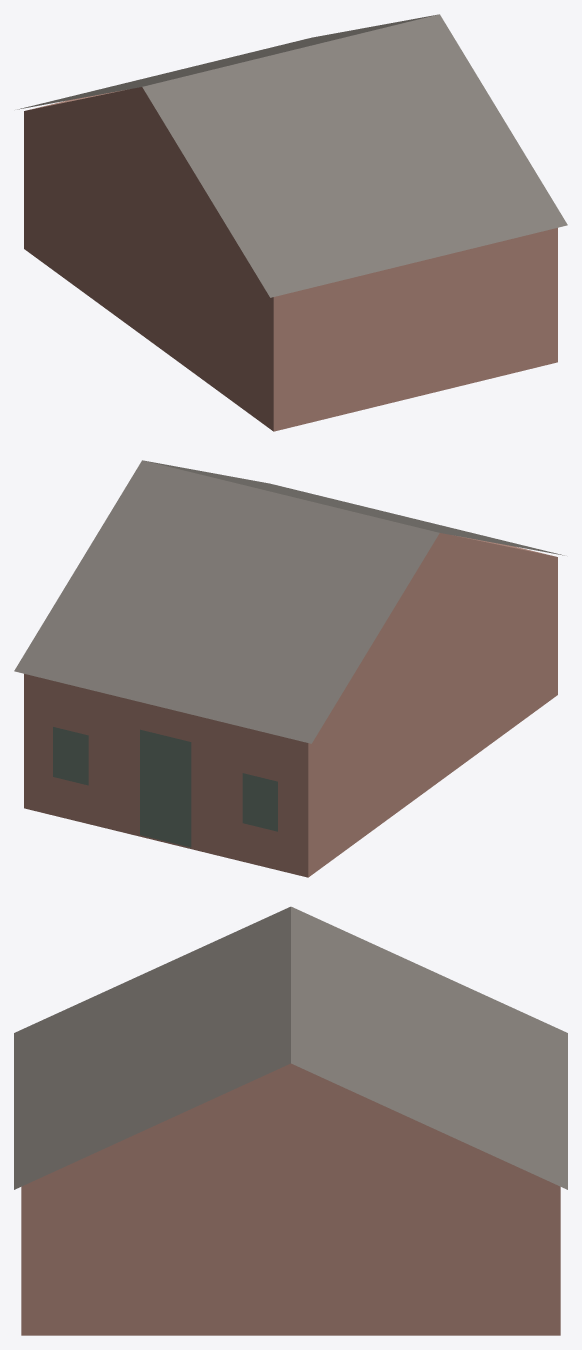
File: recon_1835_south_w2_026__recommended_1835.glb
3 renders of one model, top to bottom at view 1: azimuth 30°, elevation 25°; view 2: azimuth 150°, elevation 25°; view 3: azimuth 270°, elevation 25°, orthographic. The views are drawn at different scales.
Parts seen in each view (by area): view 1: recon_1835_south_w2_026__recommended_1835; view 2: recon_1835_south_w2_026__recommended_1835; view 3: recon_1835_south_w2_026__recommended_1835.
Boxes of the visible parts, <box> form: recon_1835_south_w2_026__recommended_1835: <box>17,14,567,431</box>; recon_1835_south_w2_026__recommended_1835: <box>14,460,564,877</box>; recon_1835_south_w2_026__recommended_1835: <box>14,906,567,1335</box>.
Bounding box in the file's own units: 6.21 × 5.09 × 9.27.
